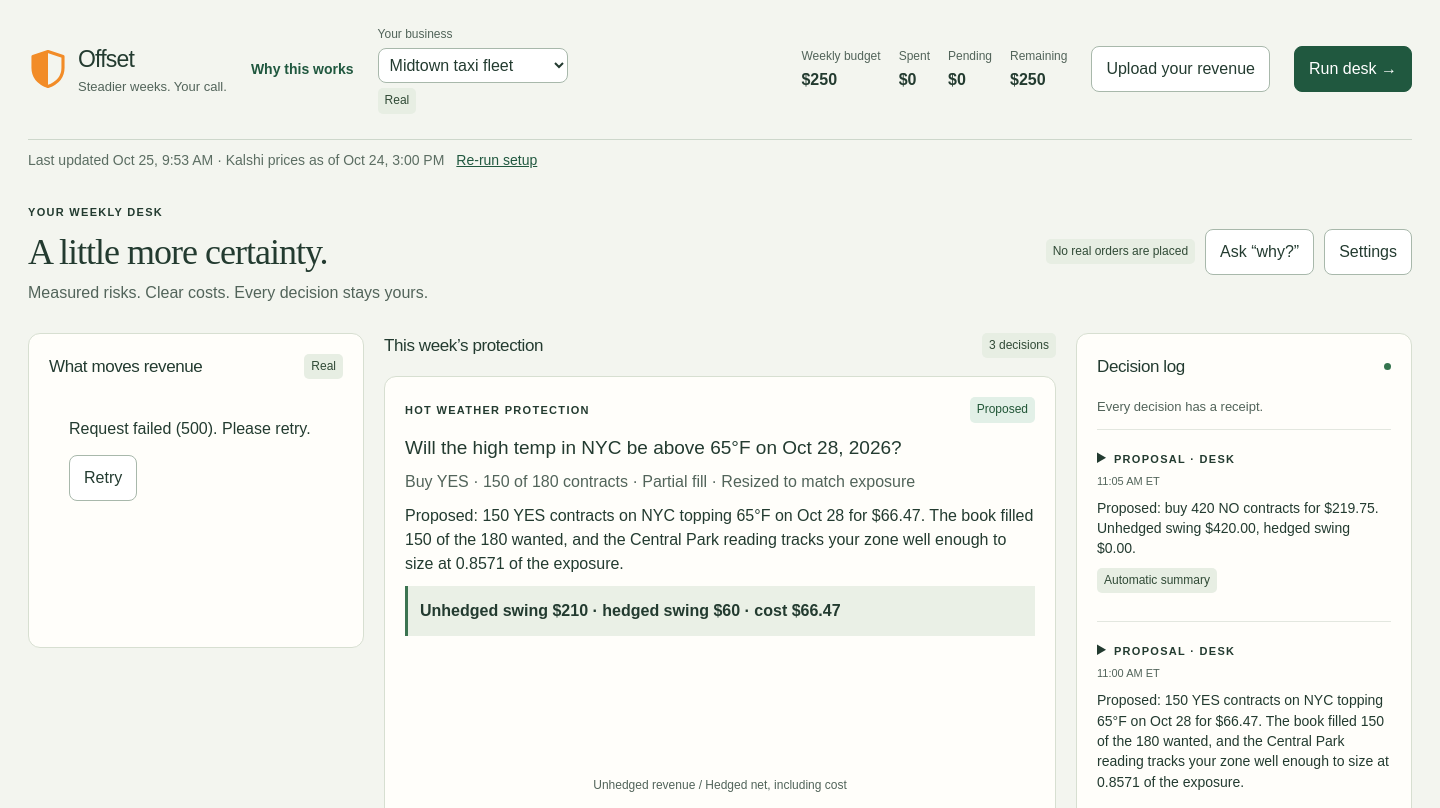
C7-A22 failed region retries while other regions render
The image size is (1440, 808).
Expected: the message "Request failed (500). Please retry. Retry" is shown, [69,420,311,501]
Click the button "Retry". click: (103, 478)
box: [69,455,137,501]
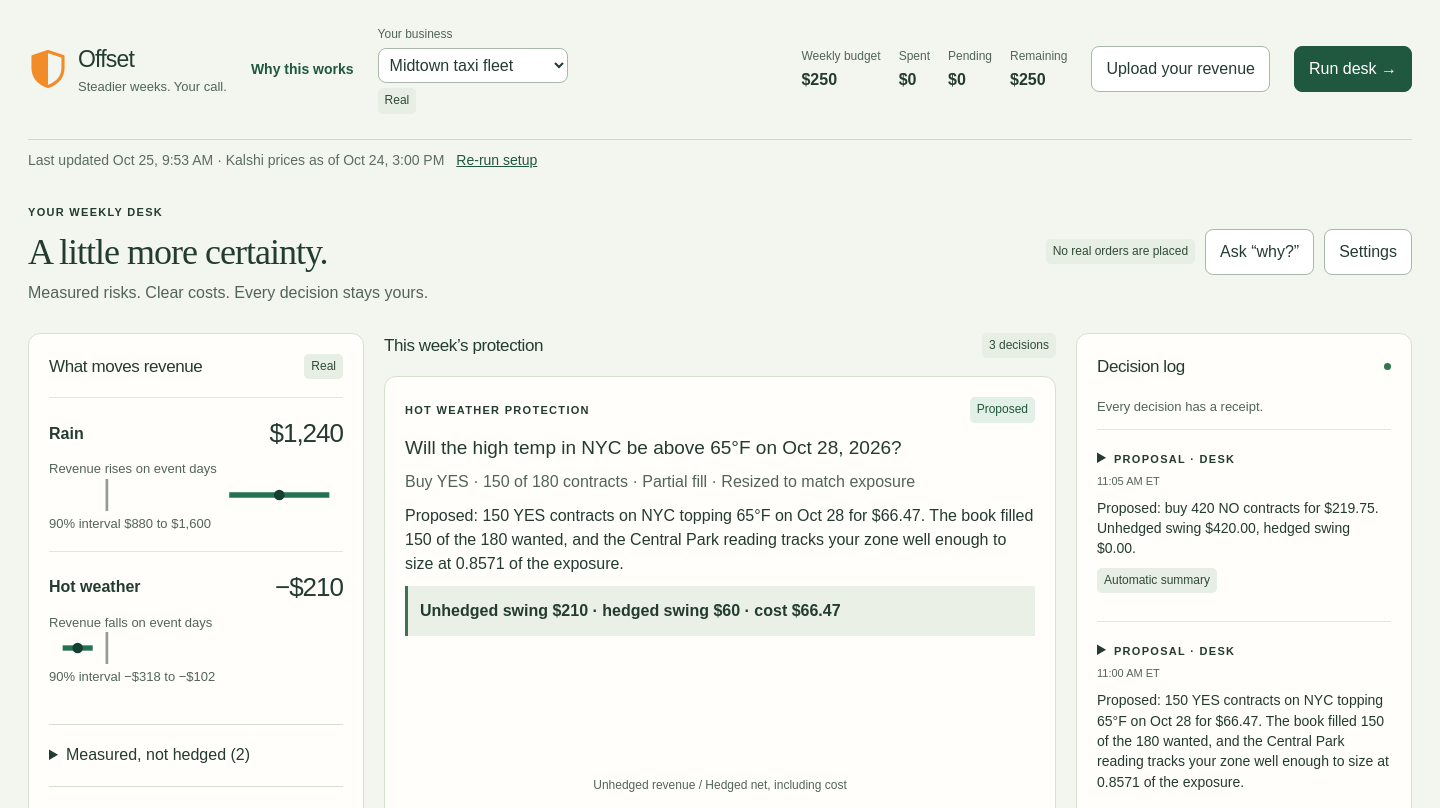
Expected: the text "Revenue rises on event days" is shown, [49,461,217,476]
